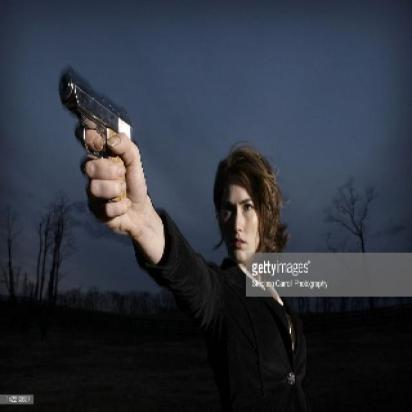Gun: (54, 63, 139, 207)
